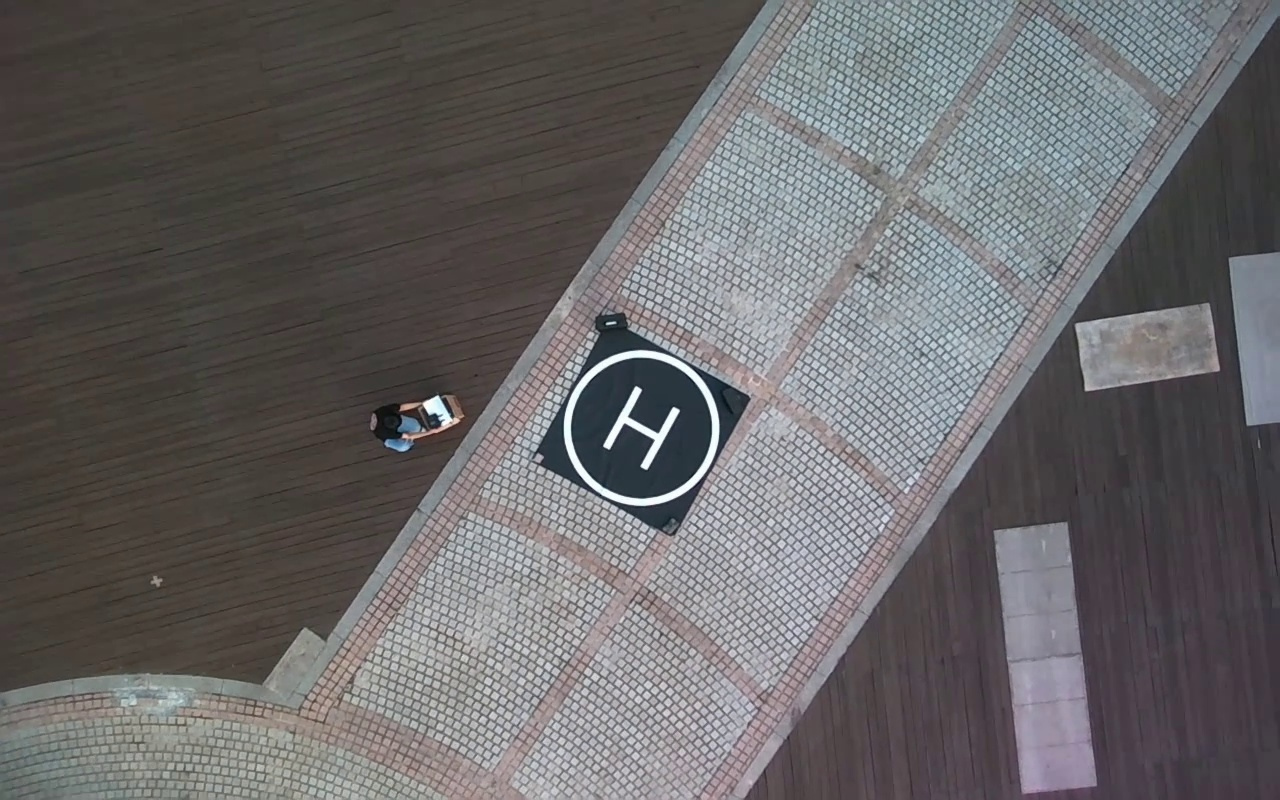H: (601, 383, 681, 468)
heliport: (562, 354, 721, 504)
